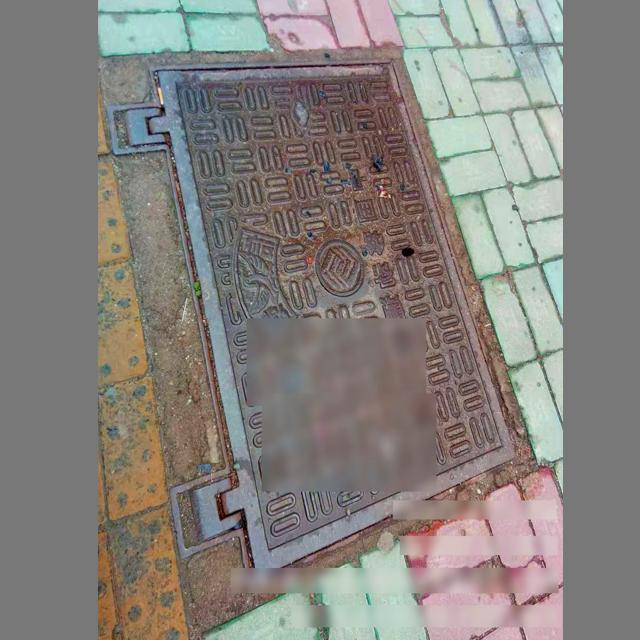good: (107, 56, 518, 586)
